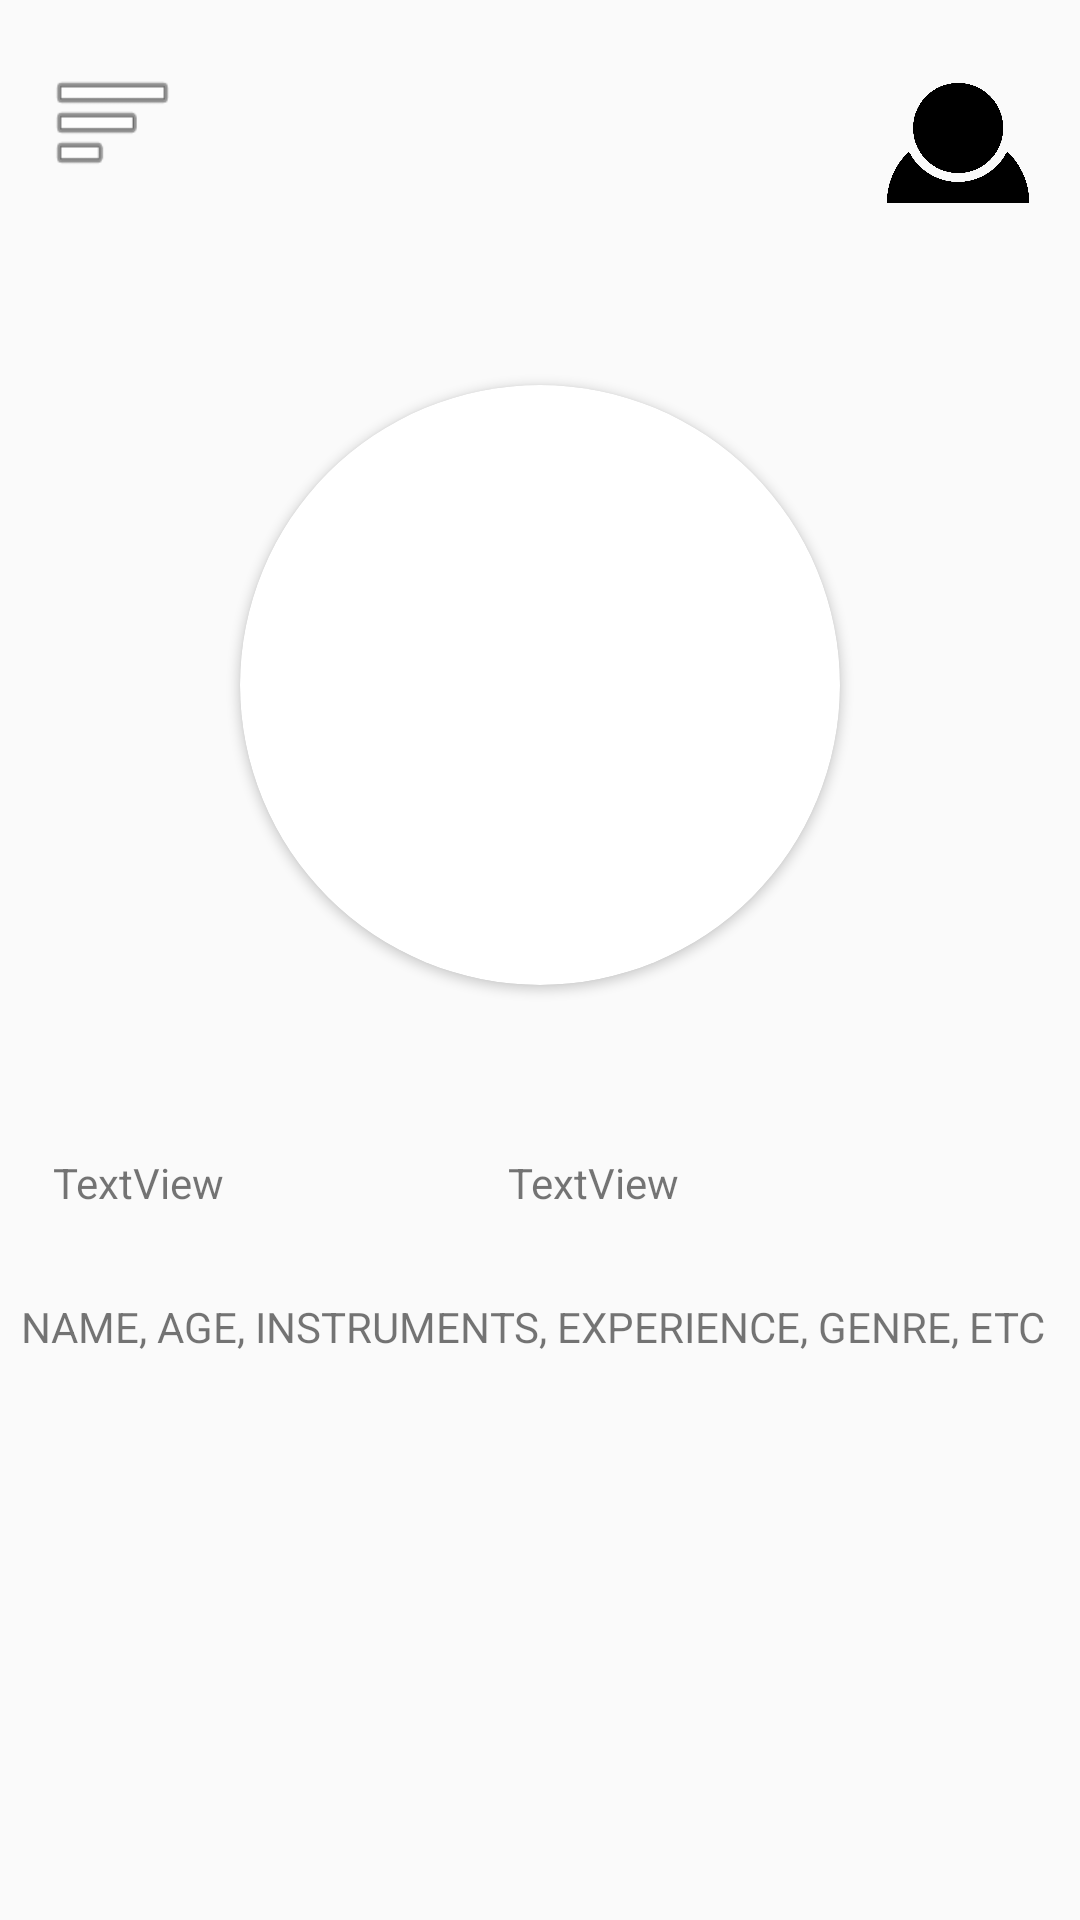

Named icons in this screenshot (1080 x 1920) and their bounding boxes, (x1, y1, x2, y2):
profile: (887, 83, 1029, 203)
sort by size: (57, 82, 168, 163)
